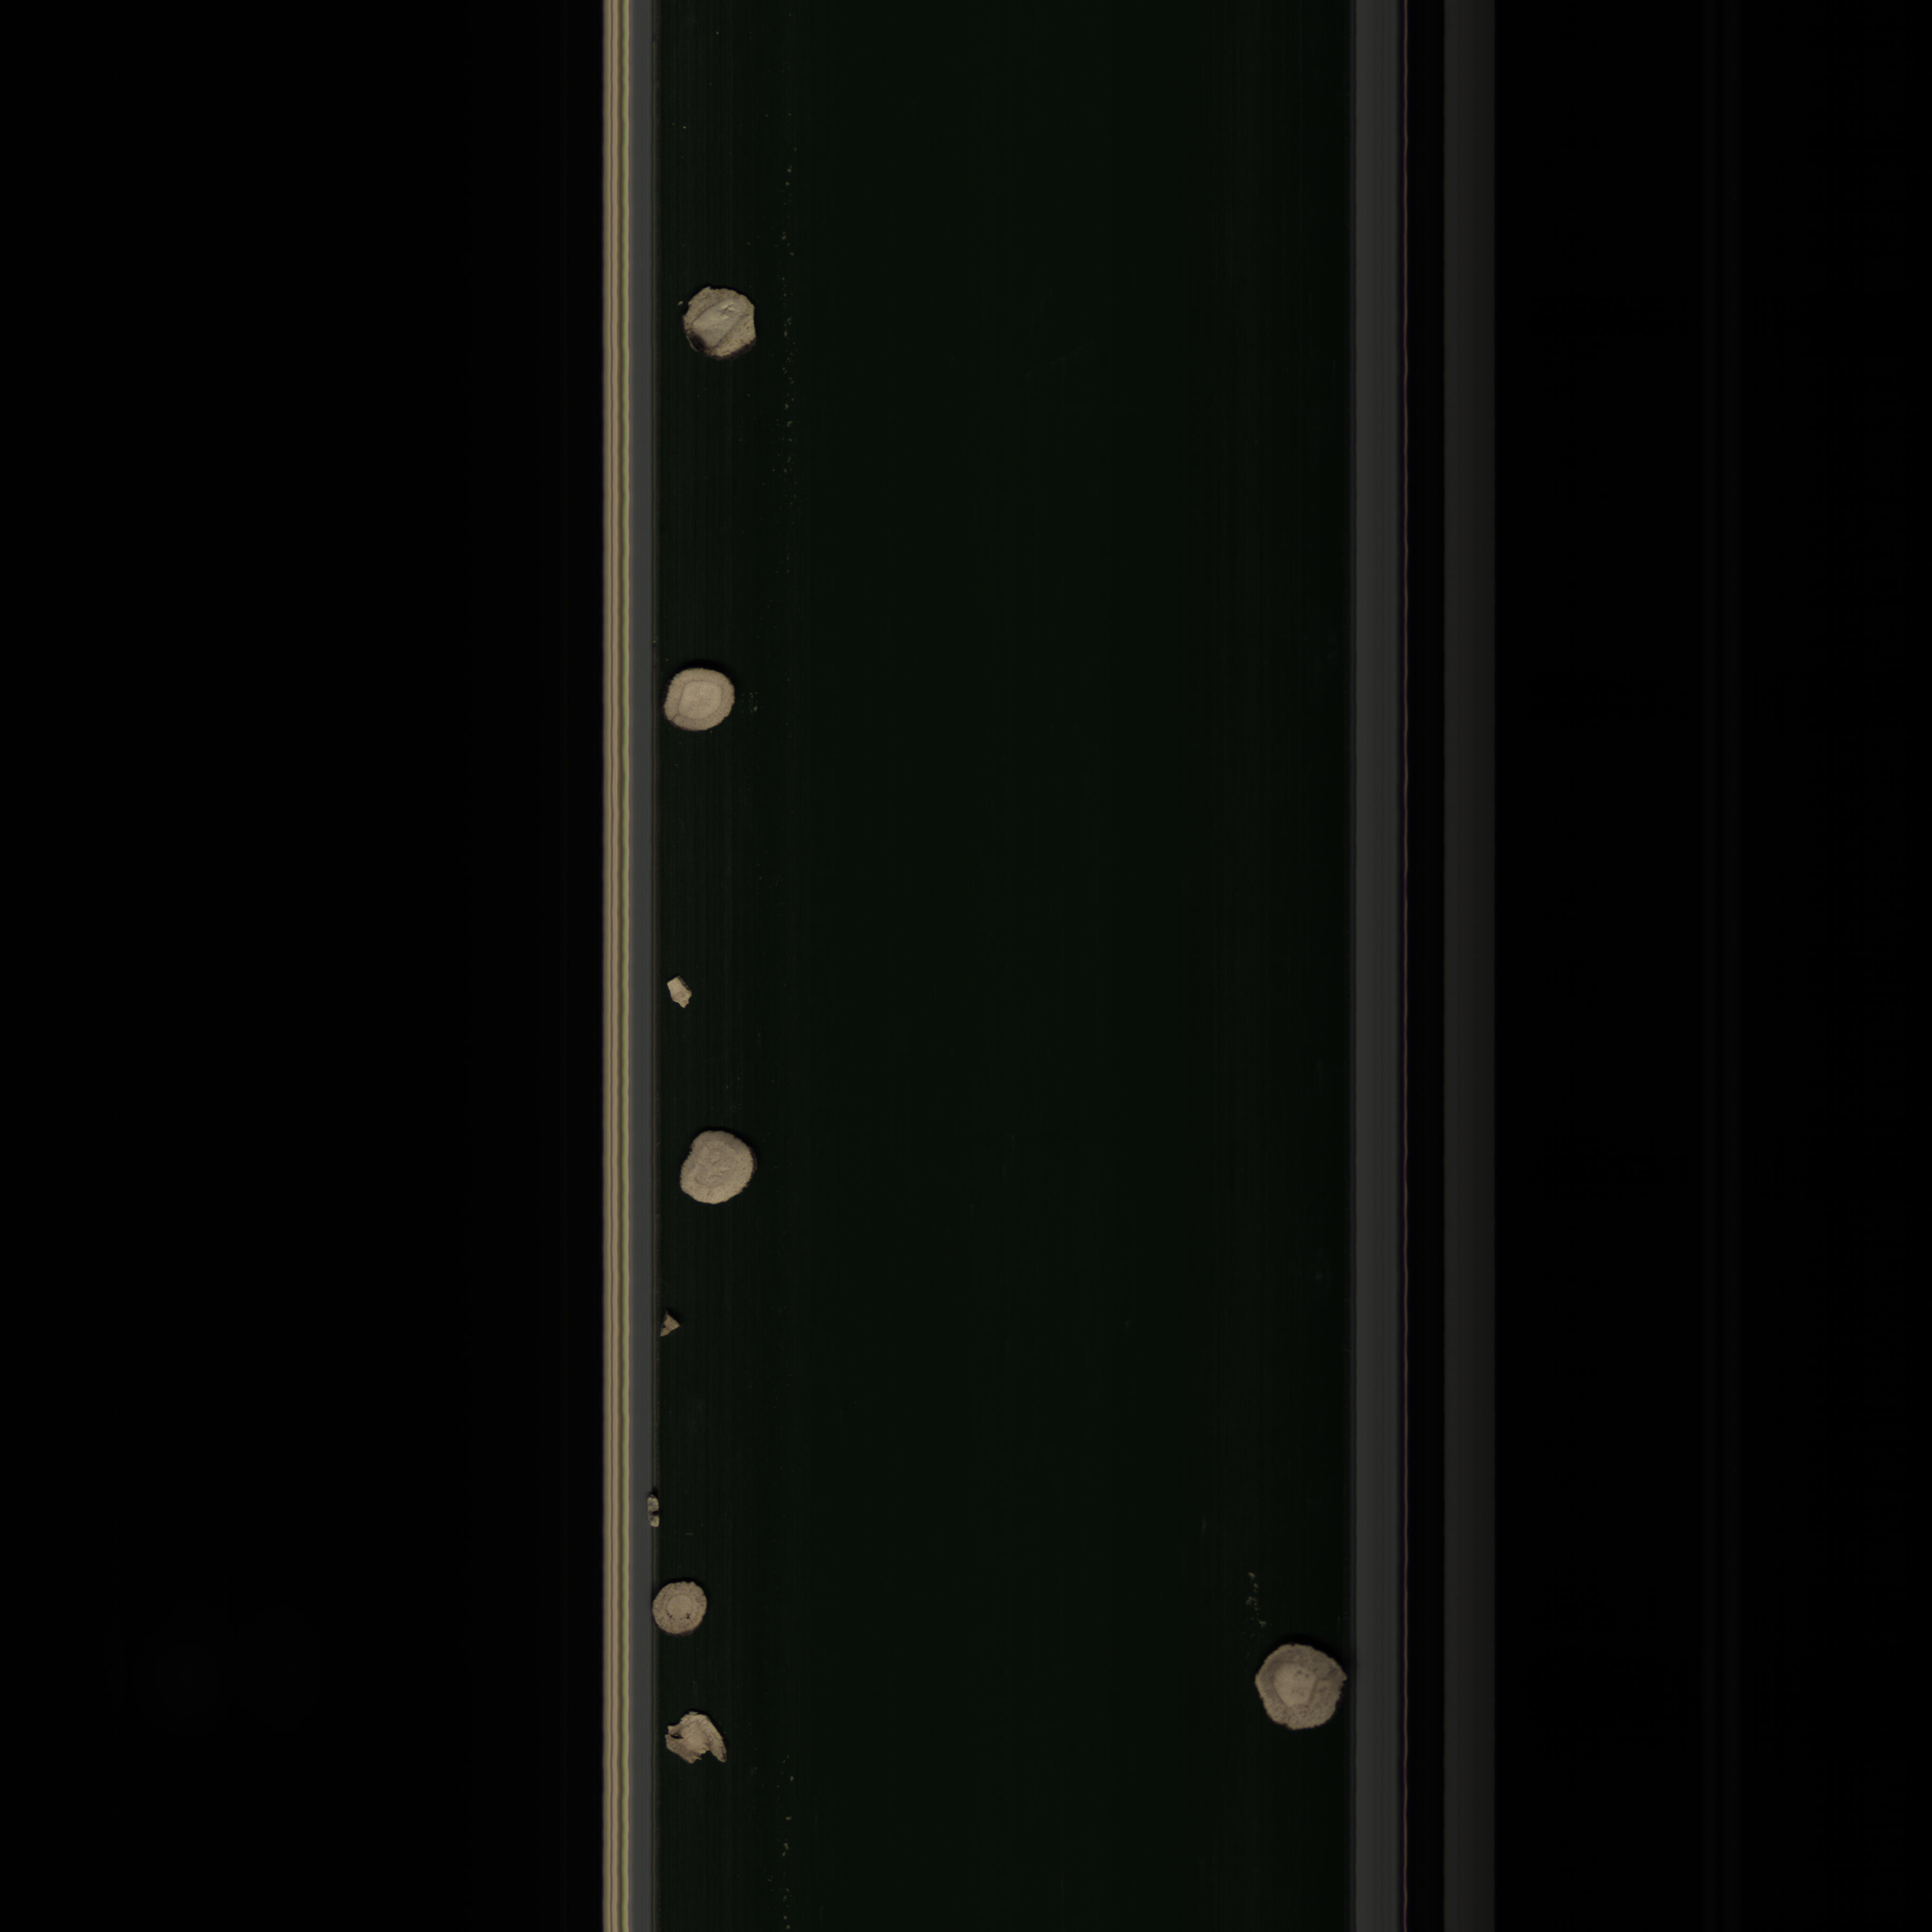debris: (640, 1483, 674, 1537), (660, 971, 697, 1010), (655, 1307, 686, 1345)
distortion: (662, 1704, 734, 1778)
moldy: (678, 283, 770, 372)
